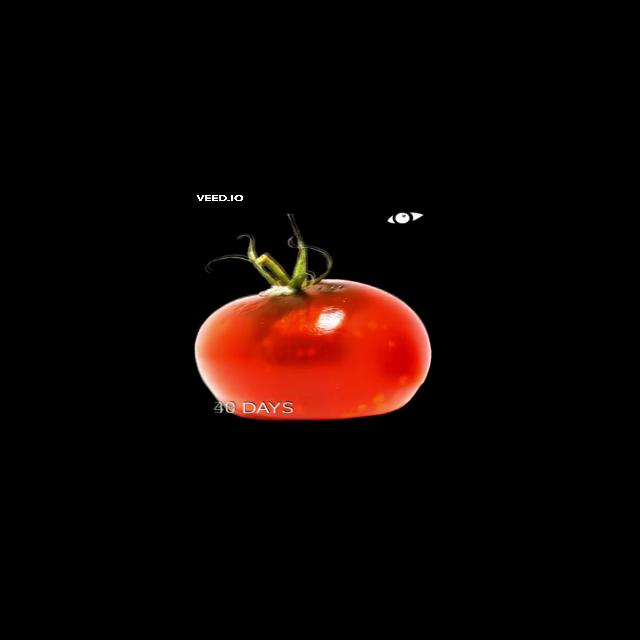tomato: (192, 254, 437, 422)
